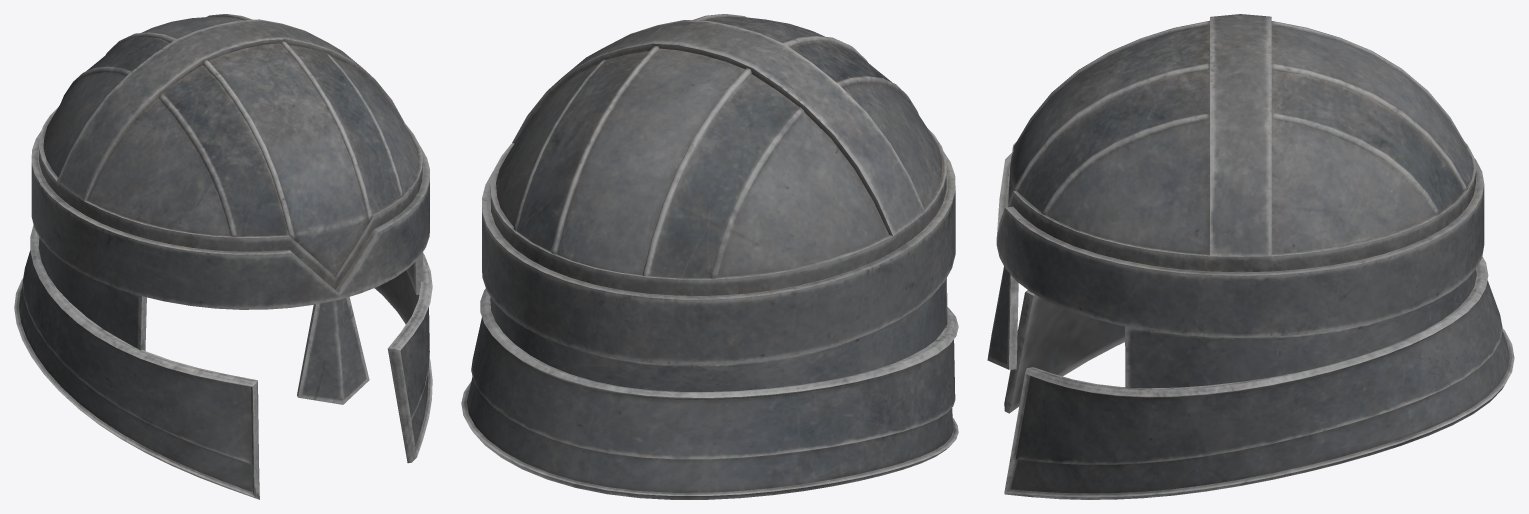
File: sk_dwarf_erebor_helmet_plate_light_c.fbx
The picture shows the model from 3 angles, left to right: view 1: azimuth 30°, elevation 25°; view 2: azimuth 150°, elevation 25°; view 3: azimuth 270°, elevation 25°; orthographic projection. The views are drawn at different scales.
Visible parts, largest first — view 1: sk_dwarf_erebor_helmet_plate_light_c; view 2: sk_dwarf_erebor_helmet_plate_light_c; view 3: sk_dwarf_erebor_helmet_plate_light_c.
Part boxes in pixels (x1,y1,x2,y2): sk_dwarf_erebor_helmet_plate_light_c: (14,14,432,499); sk_dwarf_erebor_helmet_plate_light_c: (461,14,958,499); sk_dwarf_erebor_helmet_plate_light_c: (987,14,1514,499).
Bounding box in the file's own units: 0.2646 × 0.3095 × 0.2729.
Materials: 1 (1 with a texture image).
